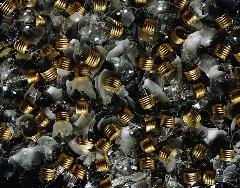lightbulb: (1, 1, 239, 188), (103, 75, 121, 92)
